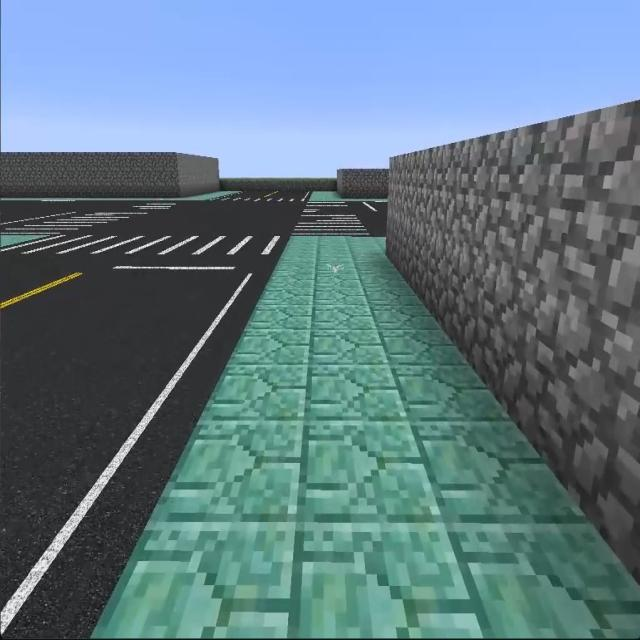crosswalk: (4, 231, 287, 262), (15, 201, 180, 233), (286, 201, 383, 235), (199, 196, 306, 205)
road: (3, 260, 273, 632), (94, 204, 303, 233), (2, 204, 133, 227), (353, 204, 386, 231)
sidewalk: (95, 237, 635, 634), (0, 192, 235, 202), (309, 191, 386, 202), (0, 234, 52, 248)
